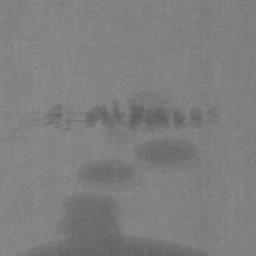Oil spot: (15, 86, 223, 256)
